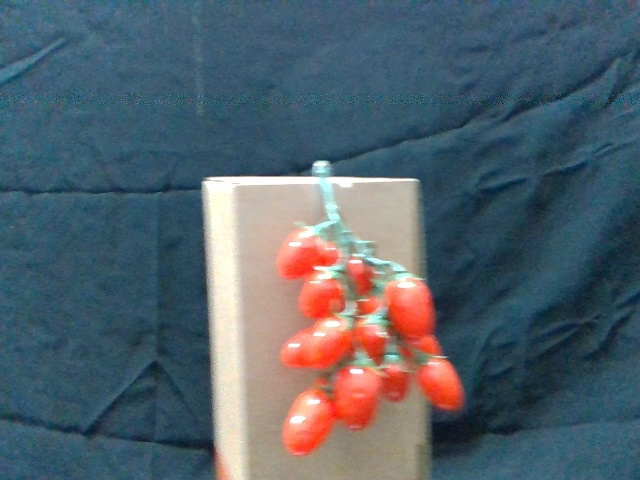tomato: (385, 268, 438, 337), (285, 386, 336, 454), (419, 350, 468, 415), (337, 359, 378, 426), (298, 269, 347, 317), (314, 312, 356, 366), (281, 223, 322, 277), (356, 311, 389, 361), (380, 354, 413, 401)
